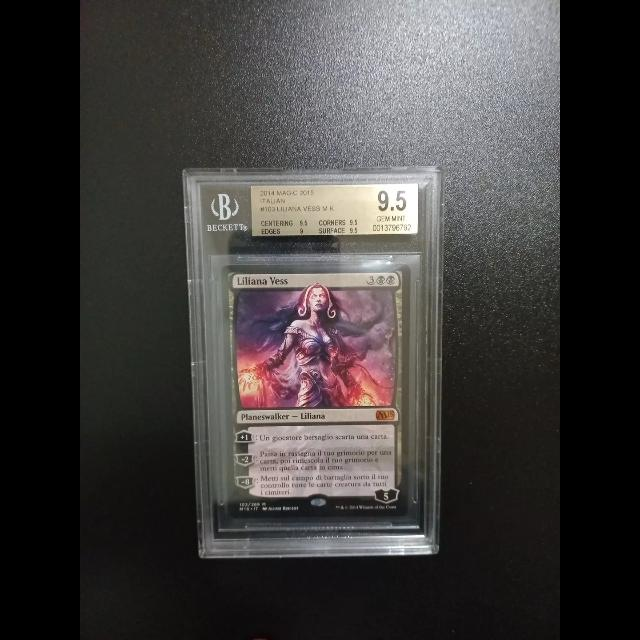bgs_label: (252, 184, 419, 236)
bgs_slab: (181, 165, 445, 558)
card: (220, 263, 411, 519)
